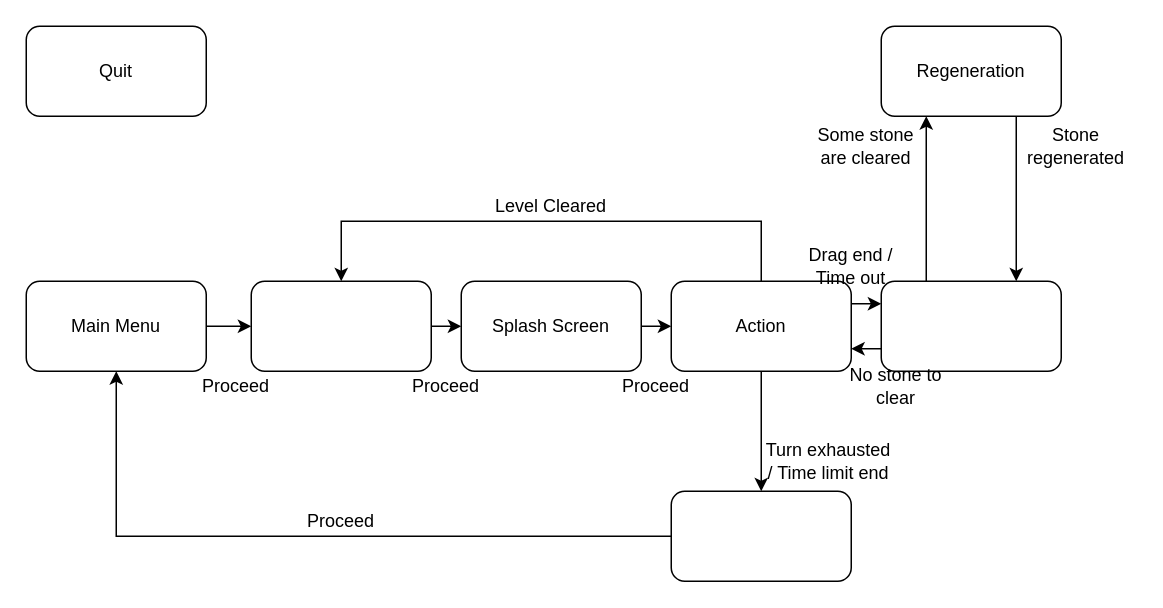
Some shapes in this 1163 by 608 pixel diagram are drawn without their labels. The box of each missing label's shape, as (x1, y1, x2, y2) in pixels:
Clearing: (880, 280, 1061, 371)
Game Over: (670, 490, 851, 581)
Initialize Level: (250, 280, 431, 371)
